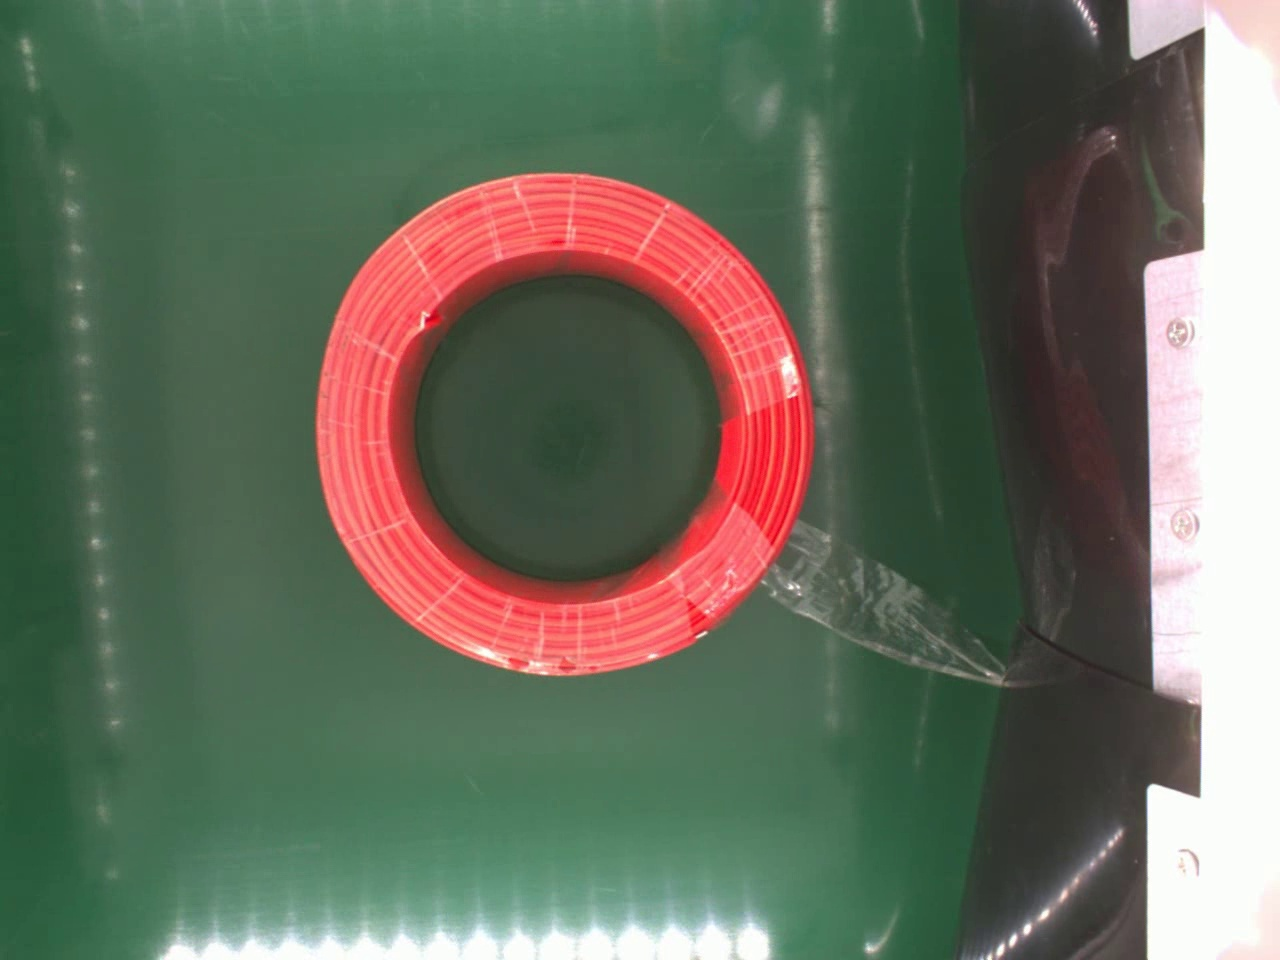red: (311, 167, 824, 684)
